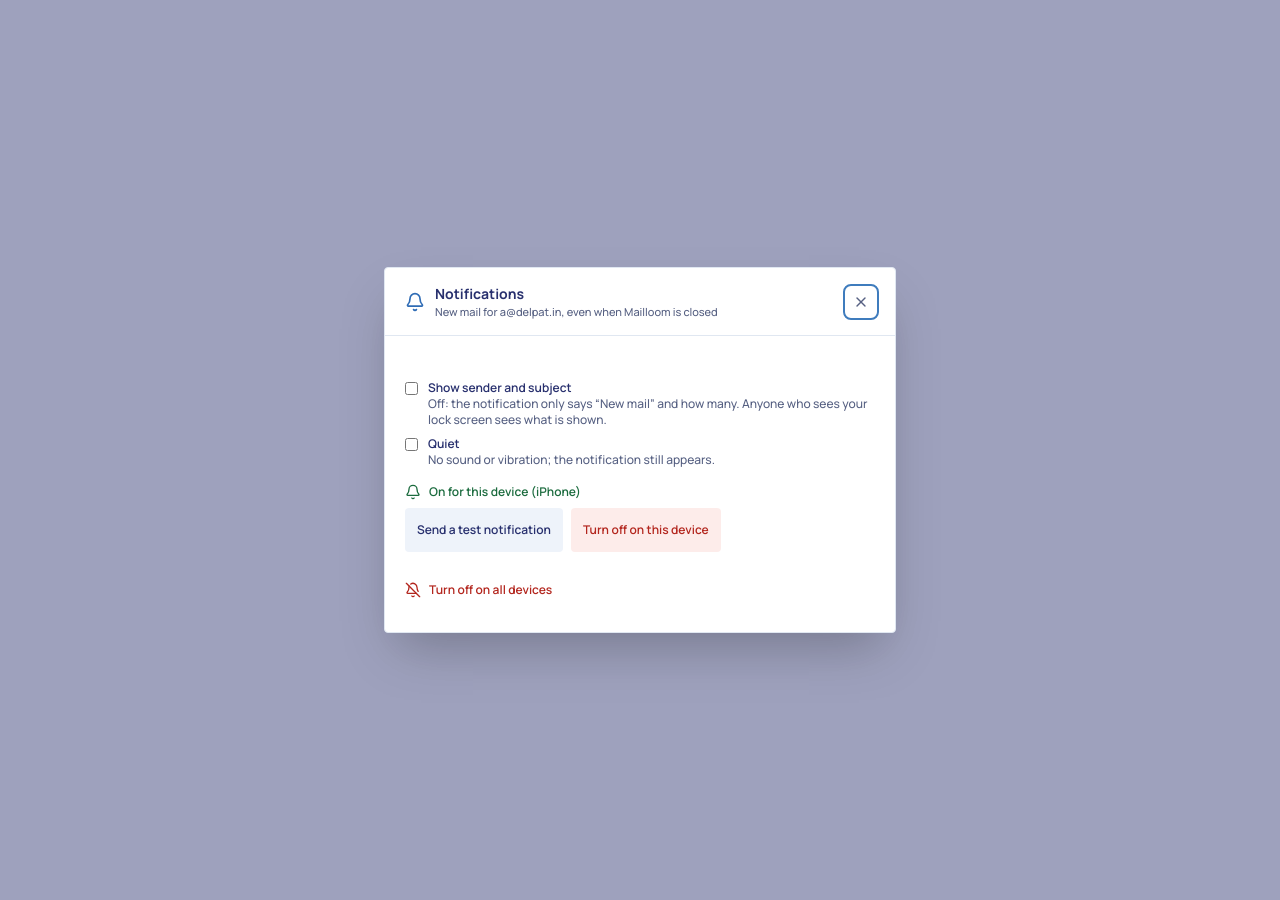
NotificationsPanel › turning off deletes the device on the server and drops the browser subscription
The image size is (1280, 900).
Click the button "Turn off on this device" at (646, 530), box x1=571 y1=508 x2=721 y2=552
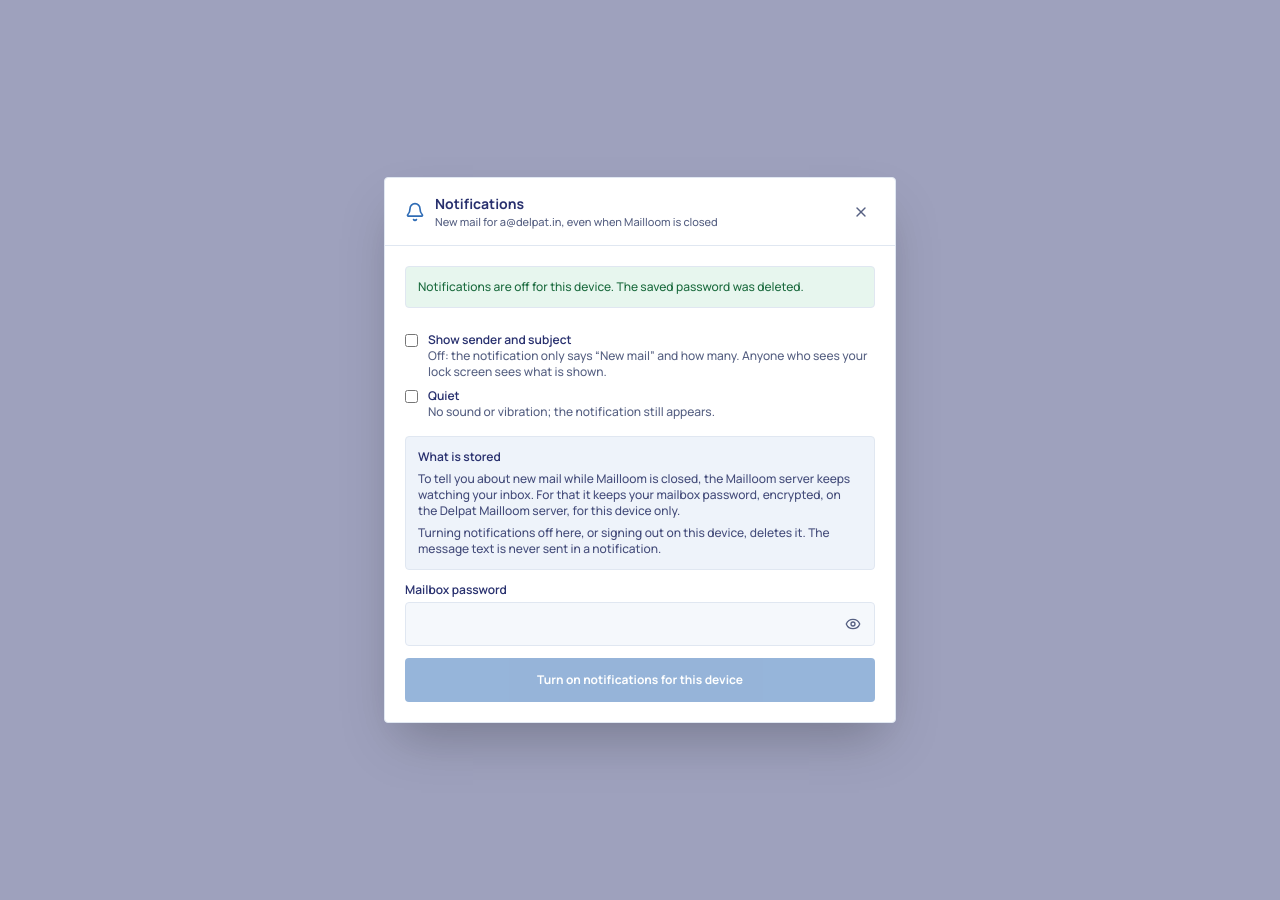
Expected: the text "The saved password was deleted" is shown, x1=418 y1=278 x2=804 y2=296
Expected: the button "Turn on notifications for this device" is shown, x1=405 y1=658 x2=875 y2=702
